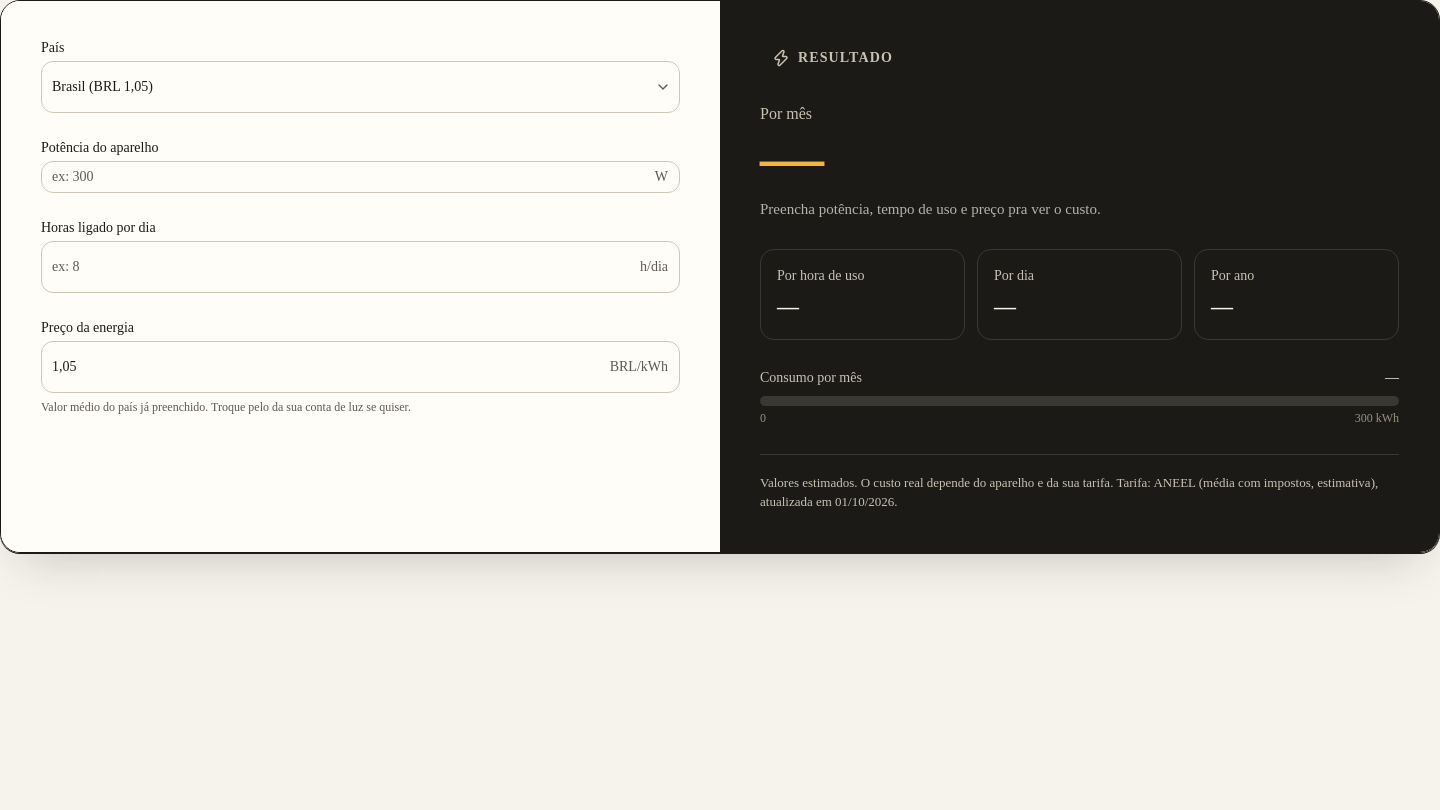
Test: Calculadora › resultado some (vira travessão) se um campo for apagado depois
Type "300" into the field labelled "Potência do aparelho" at (360, 177), box x1=41 y1=161 x2=680 y2=193
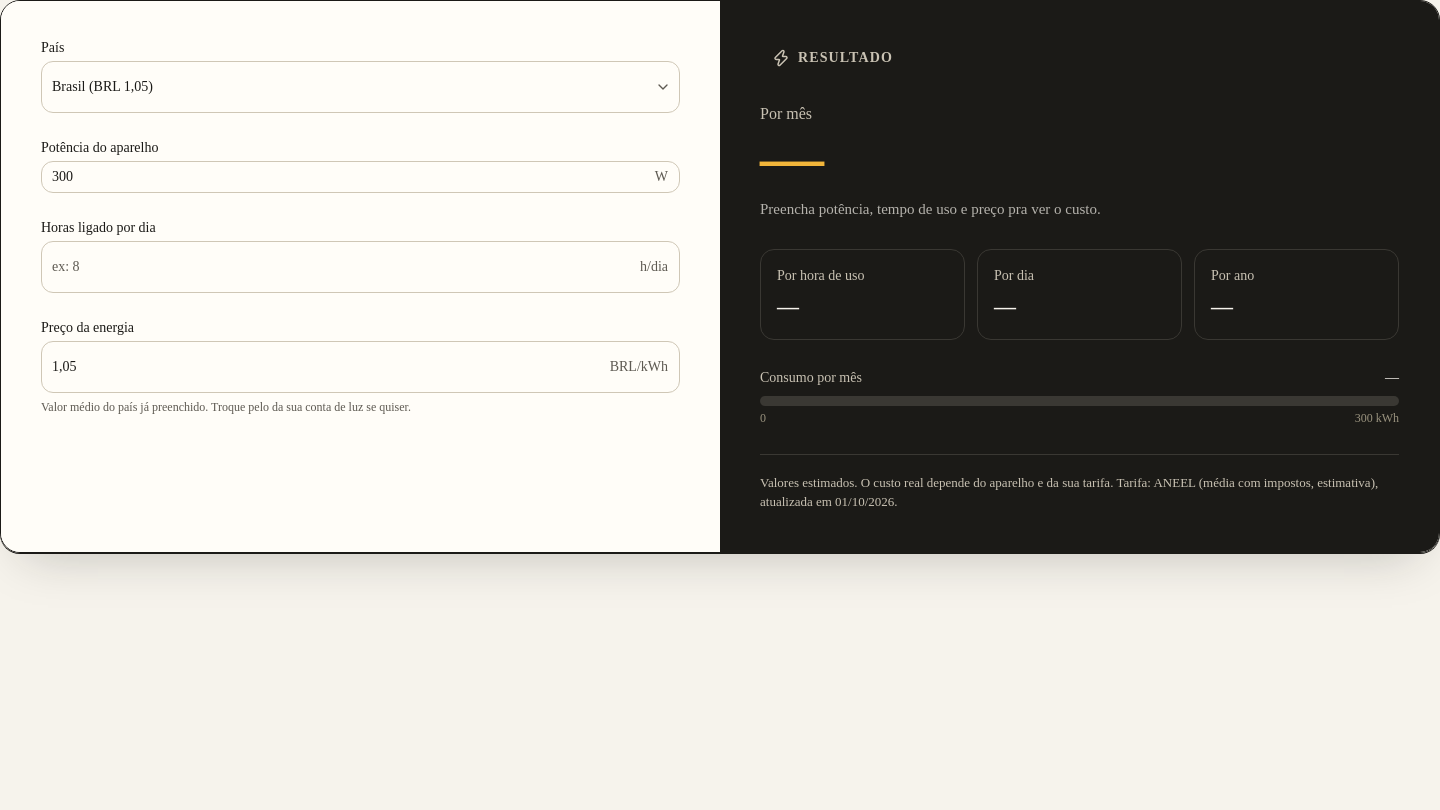
Type "8" into the field labelled "Horas ligado por dia" at (360, 267), box x1=41 y1=241 x2=680 y2=293
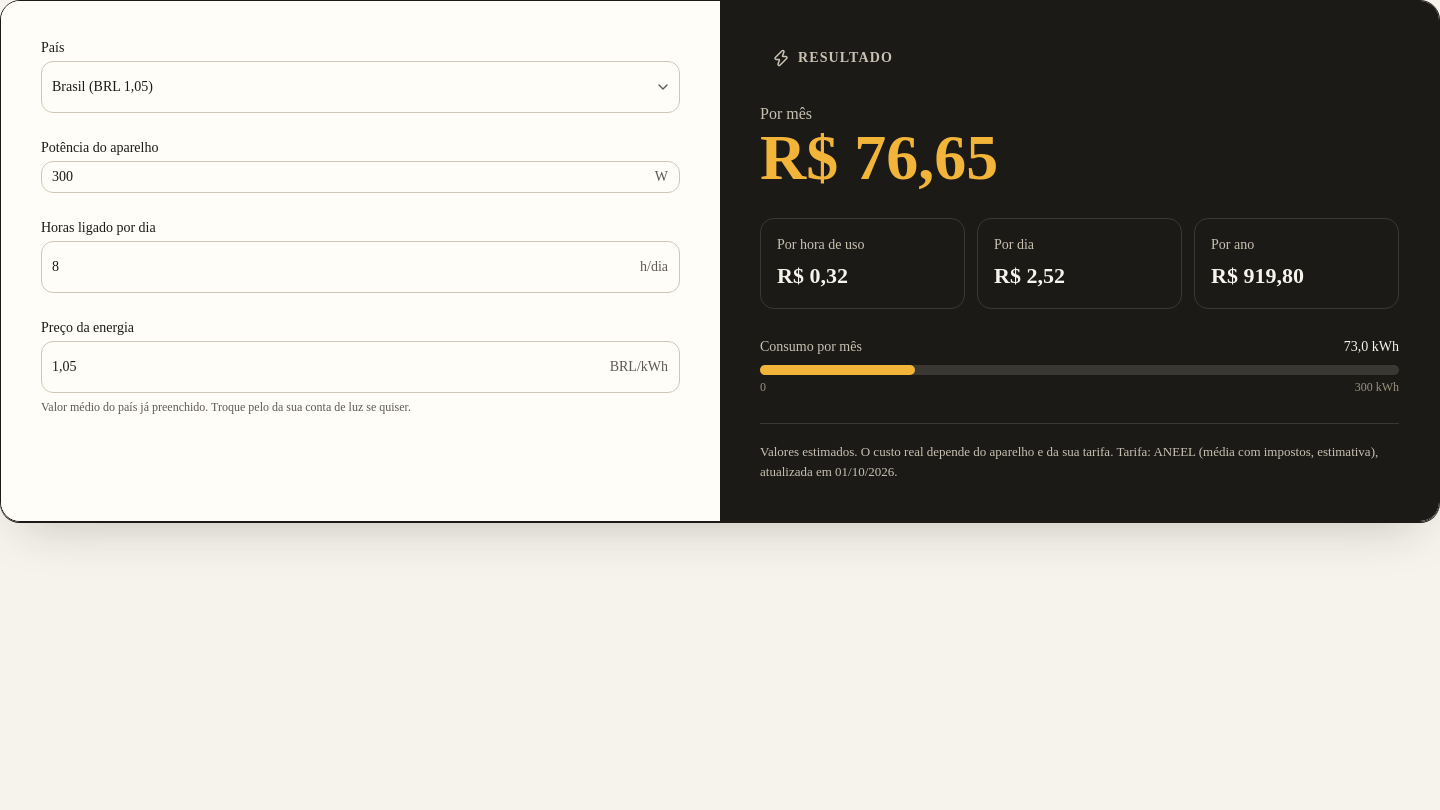
Replace the text in the field labelled "Preço da energia" with "0,75" at (360, 367), box x1=41 y1=341 x2=680 y2=393
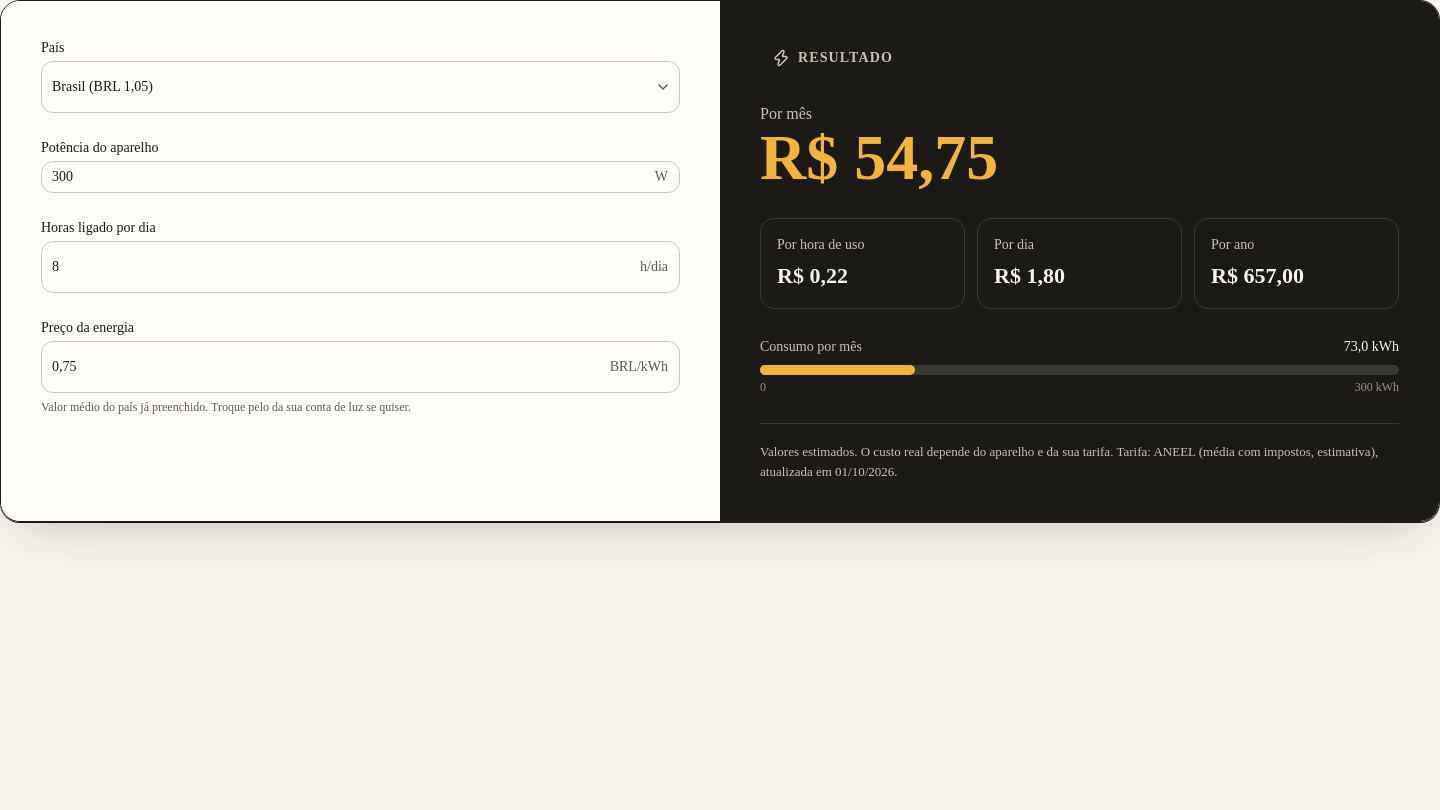
Result: the text "R$ 54,75" is shown at x1=760 y1=122 x2=998 y2=193
Clear the field labelled "Potência do aparelho" at (360, 177), box x1=41 y1=161 x2=680 y2=193
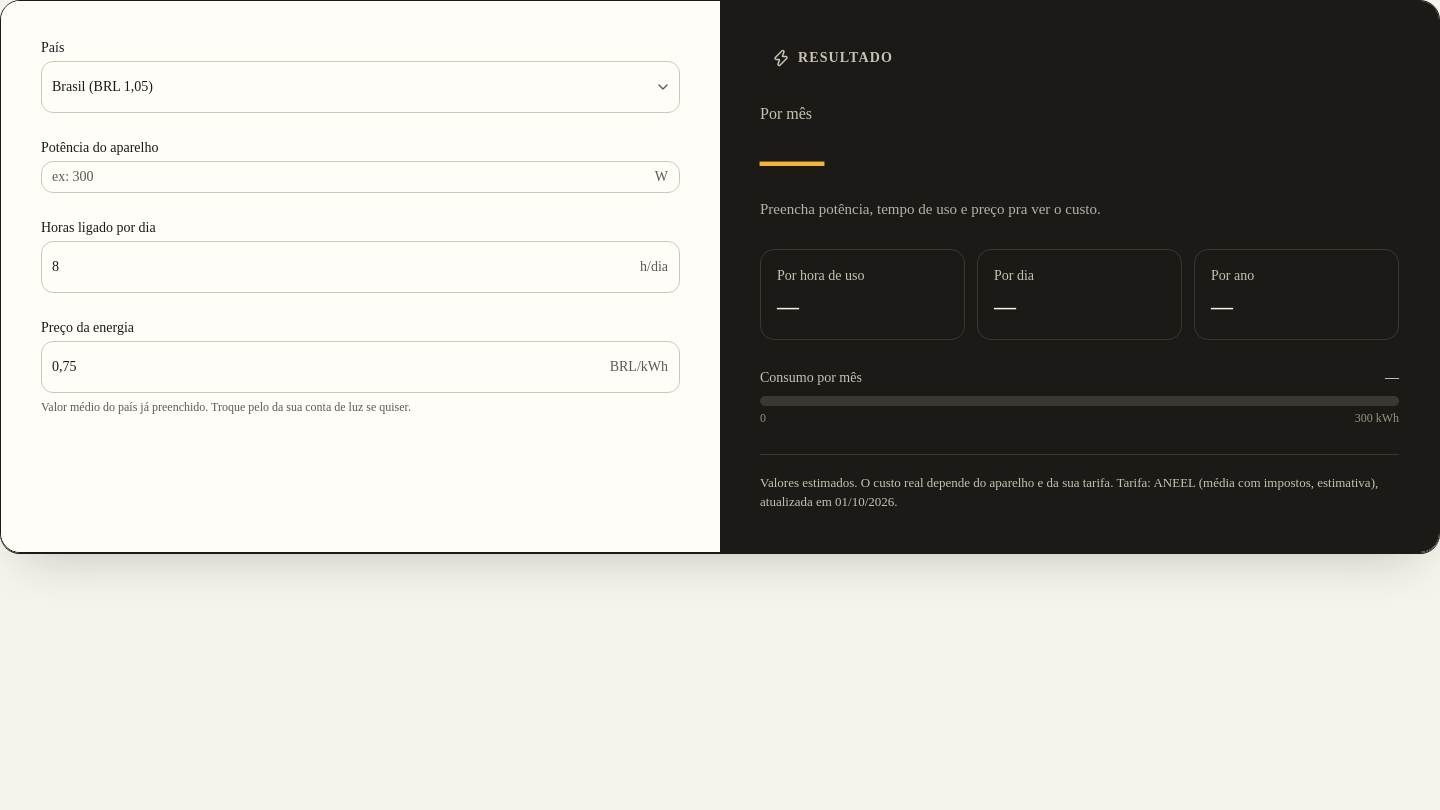
Result: the text "R$ 54,75" is gone
Result: the 1st text "—" is shown at x1=760 y1=122 x2=824 y2=193
